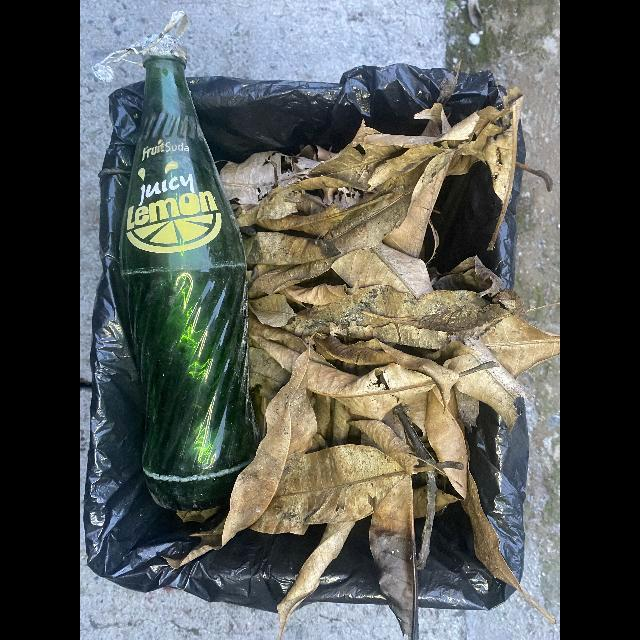glass_bottle: (120, 46, 262, 509)
